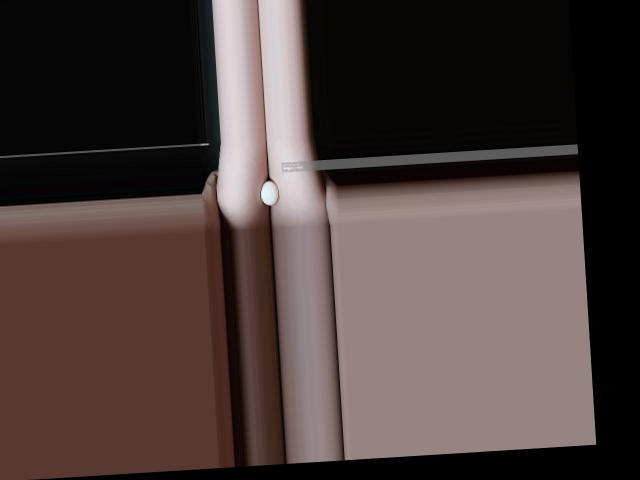egg: (260, 180, 279, 205)
